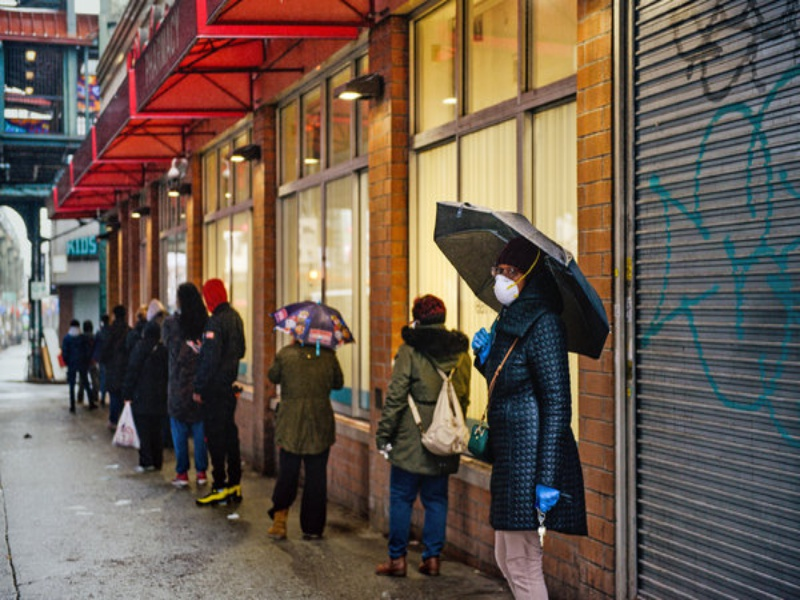ManaoArotava: (469, 229, 551, 333)
